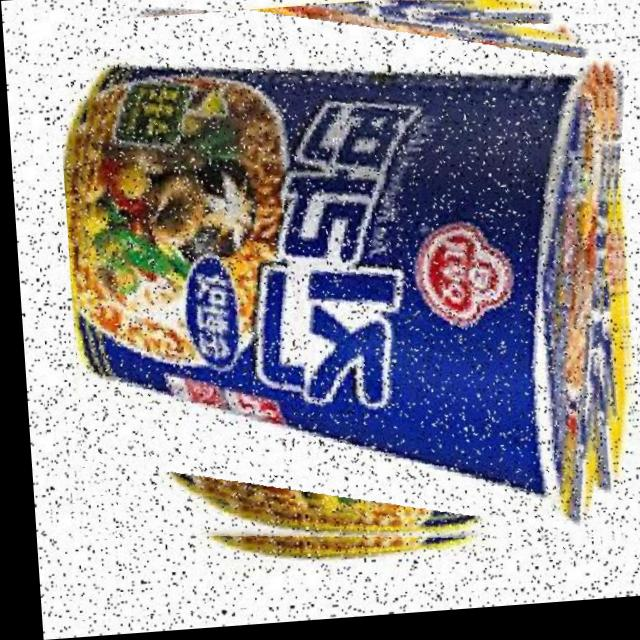Miscellaneous: (52, 0, 636, 580)
